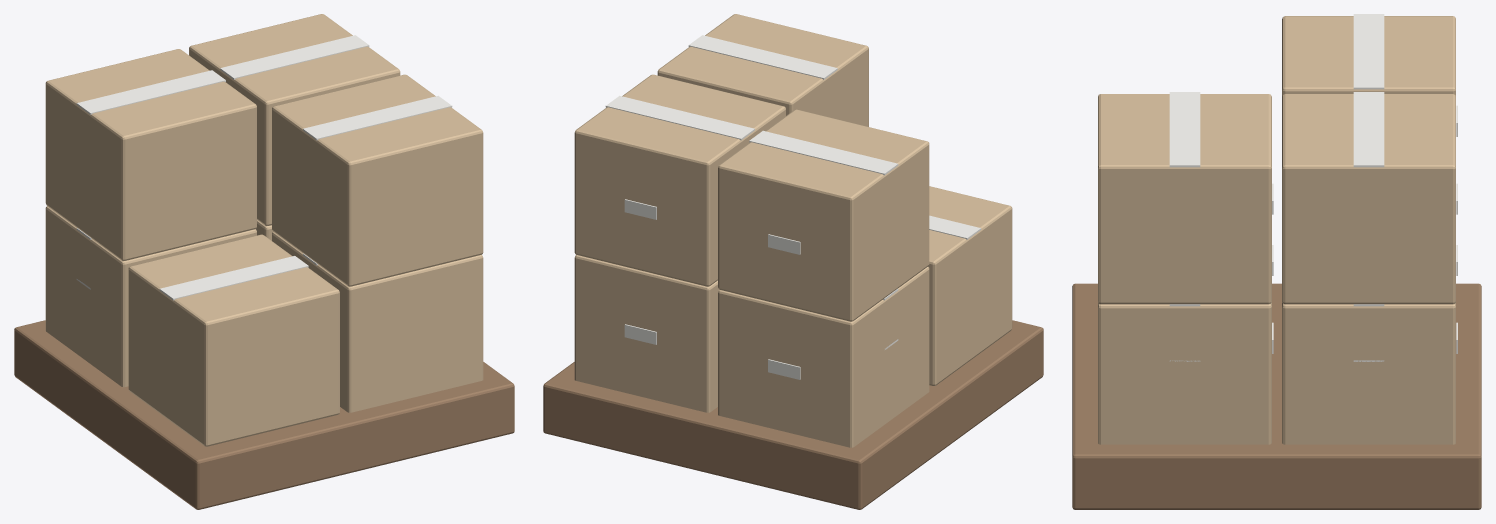
File: Gear01.fbx
3 renders of one model, left to right at view 1: azimuth 30°, elevation 25°; view 2: azimuth 150°, elevation 25°; view 3: azimuth 270°, elevation 25°, orthographic. The views are drawn at different scales.
Parts seen in each view (by area): view 1: Gear01_V10_Cork, Gear01_V10_Walnut, Gear01_V10_Paper, Gear01_V1_Cork, Gear01_V2_Cork; view 2: Gear01_V10_Cork, Gear01_V10_Walnut, Gear01_V1_Cork, Gear01_V10_Paper; view 3: Gear01_V10_Cork, Gear01_V10_Walnut, Gear01_V1_Cork, Gear01_V2_Cork, Gear01_V10_Paper.
Part boxes in pixels (x1,y1,x2,y2): Gear01_V10_Cork: (45, 14, 483, 446); Gear01_V10_Walnut: (14, 320, 514, 509); Gear01_V10_Paper: (76, 35, 452, 300); Gear01_V1_Cork: (45, 258, 128, 387); Gear01_V2_Cork: (340, 335, 483, 412); Gear01_V10_Cork: (574, 14, 1012, 443); Gear01_V10_Walnut: (543, 320, 1043, 509); Gear01_V1_Cork: (574, 309, 929, 447); Gear01_V10_Paper: (605, 35, 981, 379); Gear01_V10_Cork: (1098, 16, 1455, 441); Gear01_V10_Walnut: (1072, 283, 1481, 509); Gear01_V1_Cork: (1282, 363, 1455, 444); Gear01_V2_Cork: (1098, 363, 1271, 444); Gear01_V10_Paper: (1169, 14, 1457, 353).
Size of the model in its own units: 80 by 72.2 by 80.
